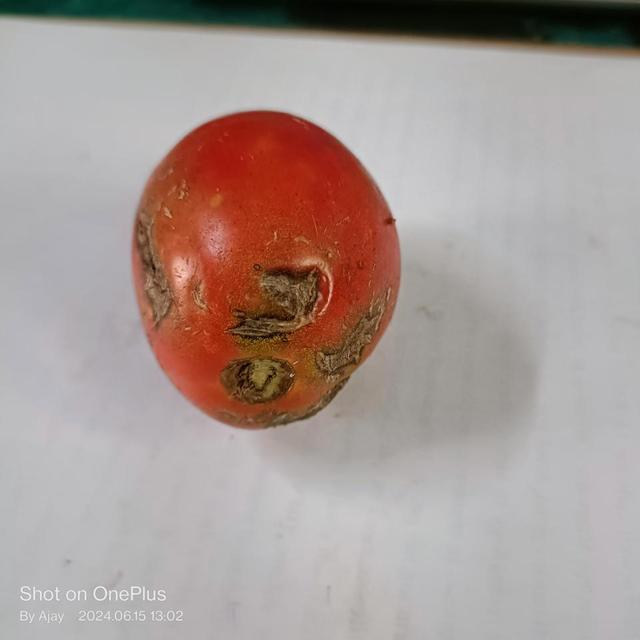Bacterial Spot Fruit: (8, 8, 253, 253)
